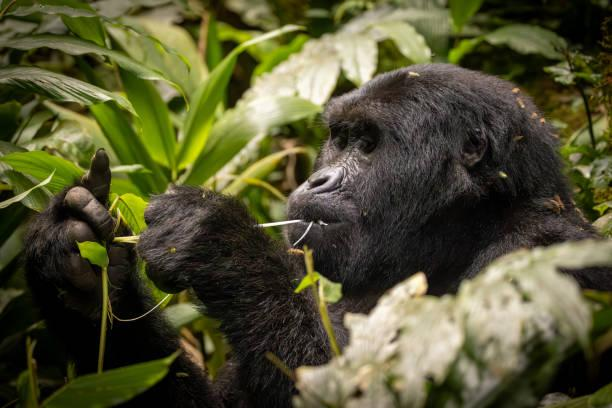goriile_montagne: (99, 59, 582, 407)
